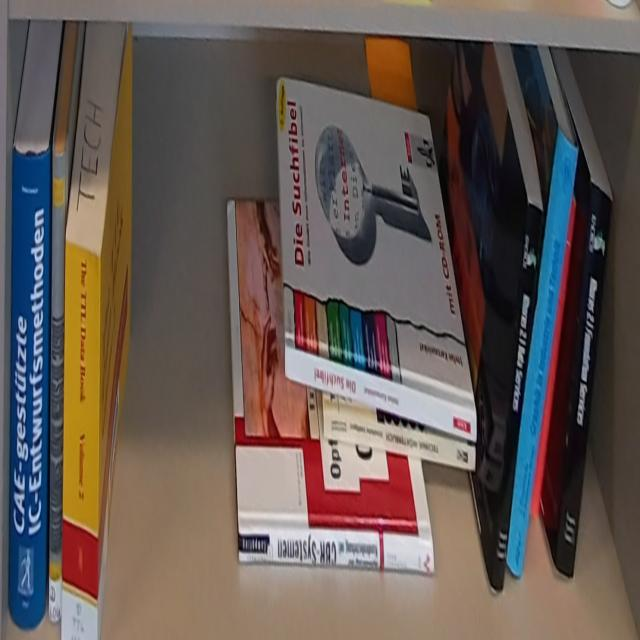Book Spine: (509, 135, 580, 592), (555, 171, 616, 582), (5, 142, 55, 635), (492, 200, 544, 603), (284, 347, 482, 445), (62, 244, 101, 640), (317, 400, 477, 476), (234, 525, 434, 582), (46, 144, 68, 631)
